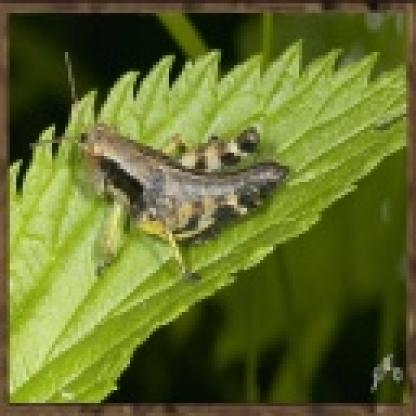grasshopper: (59, 121, 304, 288)
